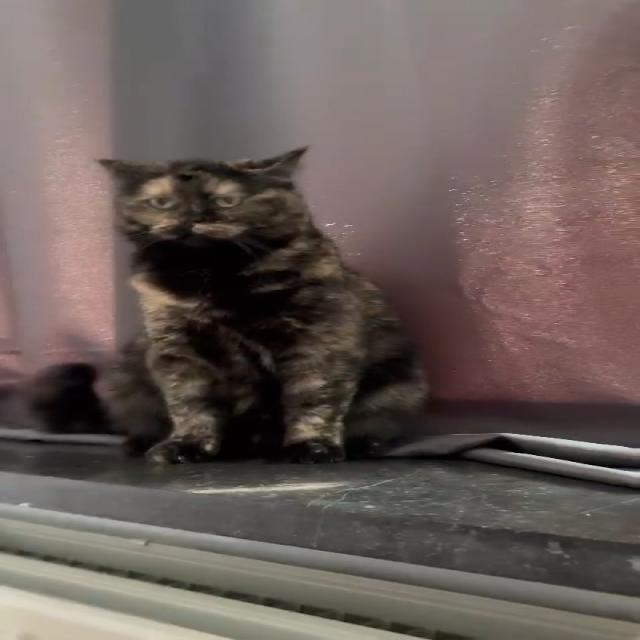authorized: (93, 144, 431, 465)
